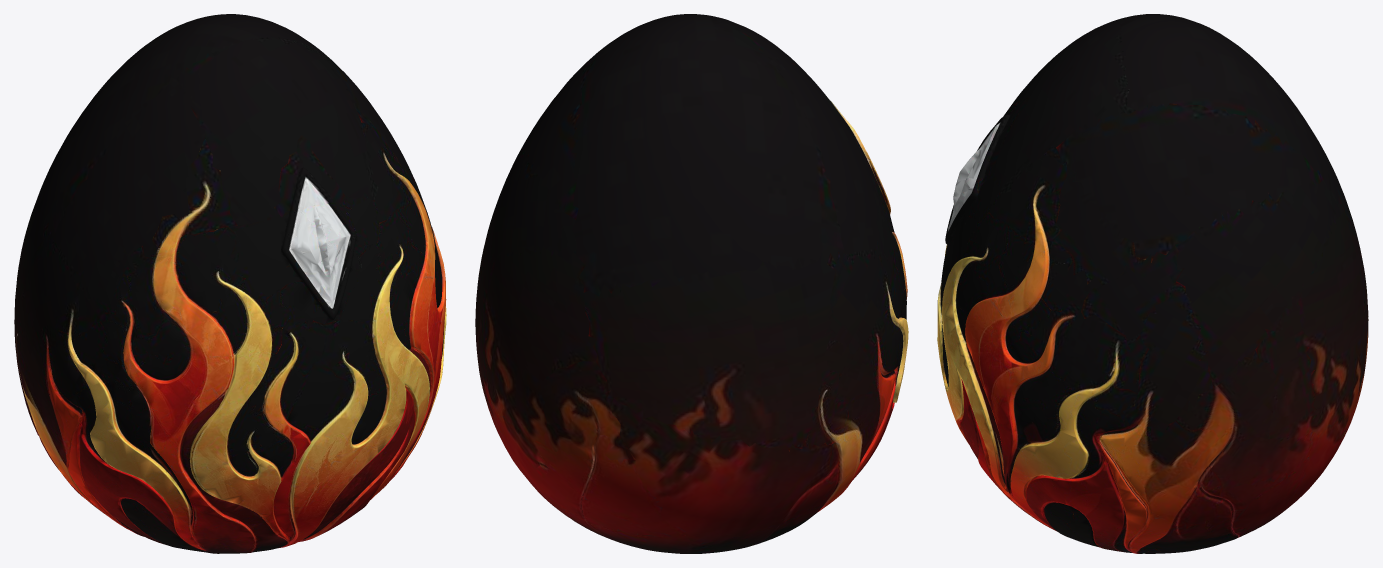
File: Prism-Egg.glb
3 views of the same model, side by side, from view 1: azimuth 30°, elevation 25°; view 2: azimuth 150°, elevation 25°; view 3: azimuth 270°, elevation 25° (orthographic).
Bounding box in the file's own units: 0.1175 × 0.1524 × 0.1183.
Materials: 1 (1 with a texture image).
